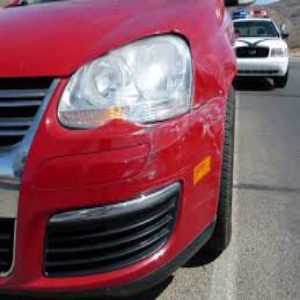bumper_scratch: (108, 98, 231, 159)
